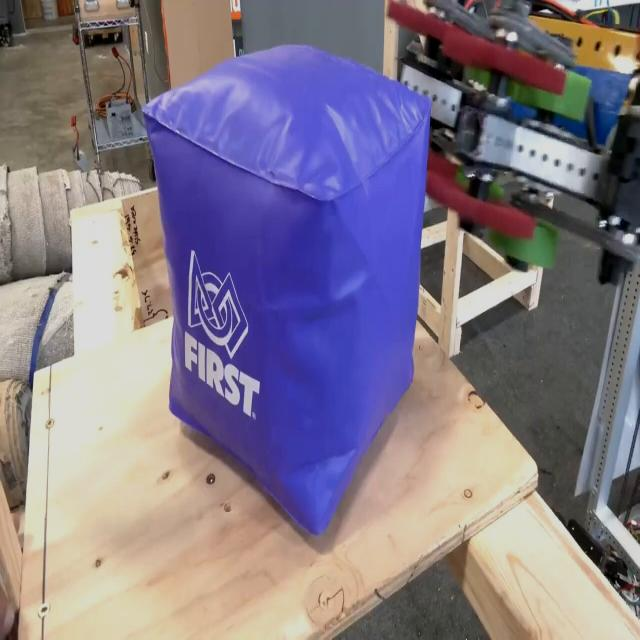frc_cube: (141, 39, 431, 531)
